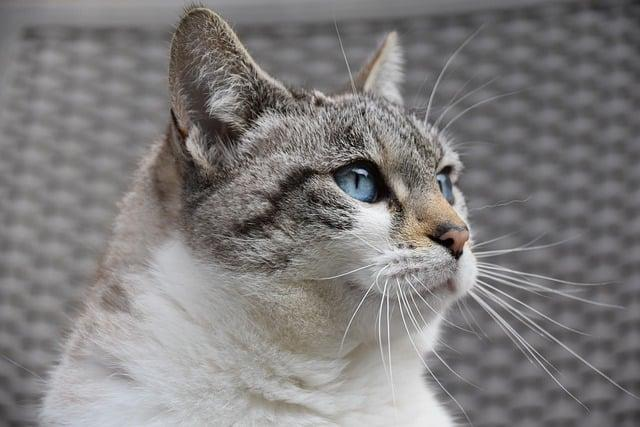kedo: (42, 10, 480, 427)
